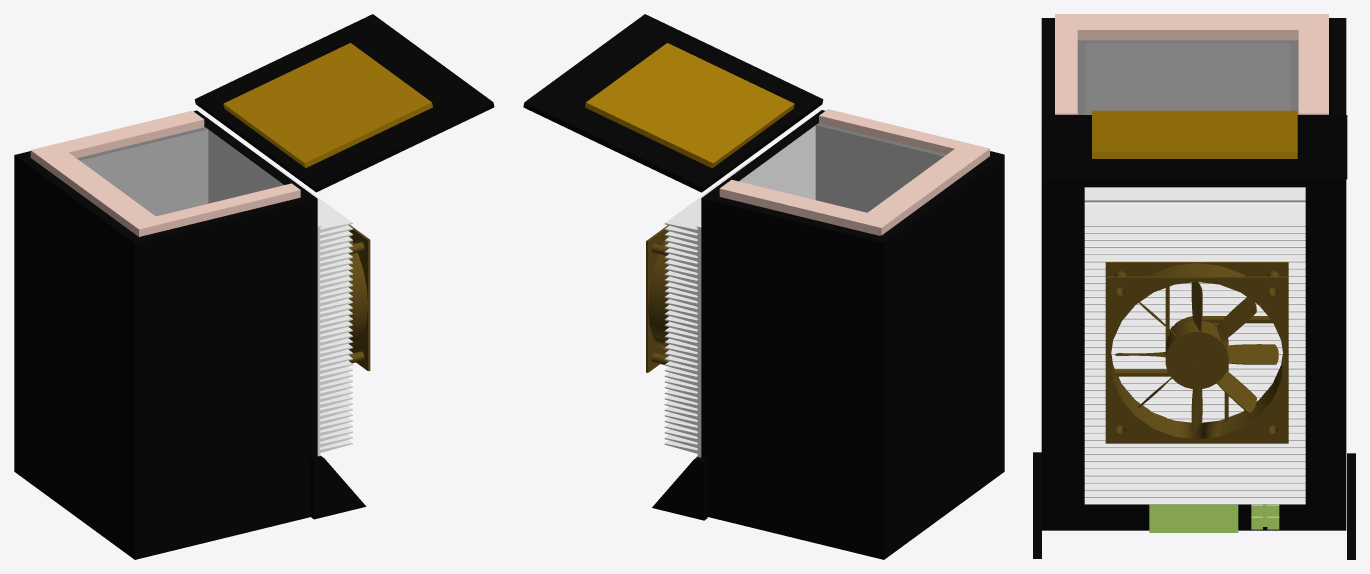
File: CaixaFinalizada_Open.glb
3 views of the same model, side by side, from view 1: azimuth 30°, elevation 25°; view 2: azimuth 150°, elevation 25°; view 3: azimuth 270°, elevation 25° (orthographic). The views are drawn at different scales.
Parts seen in each view (by area): view 1: CorpoCaixa, Tampa_solo, ParedeInterna, Revestimento, CoolerQuente, Ventilador.001, SuporteLateral; view 2: CorpoCaixa, Tampa_solo, ParedeInterna, Revestimento, CoolerQuente, Ventilador.001, SuporteLateral.001; view 3: CoolerQuente, CorpoCaixa, Ventilador.001, Tampa_solo, ParedeInterna, Revestimento, Eletronica, SuporteLateral, SuporteLateral.001.
Part boxes in pixels (x1=…): CorpoCaixa: x1=14, y1=110, x2=317, y2=559; Tampa_solo: x1=194, y1=14, x2=494, y2=192; ParedeInterna: x1=77, y1=127, x2=283, y2=216; Revestimento: x1=30, y1=110, x2=300, y2=236; CoolerQuente: x1=264, y1=159, x2=352, y2=456; Ventilador.001: x1=348, y1=225, x2=370, y2=371; SuporteLateral: x1=310, y1=456, x2=365, y2=519; CorpoCaixa: x1=701, y1=110, x2=1004, y2=559; Tampa_solo: x1=523, y1=14, x2=823, y2=192; ParedeInterna: x1=739, y1=123, x2=946, y2=212; Revestimento: x1=719, y1=109, x2=989, y2=235; CoolerQuente: x1=664, y1=159, x2=753, y2=457; Ventilador.001: x1=646, y1=225, x2=668, y2=372; SuporteLateral.001: x1=652, y1=457, x2=707, y2=520; CoolerQuente: x1=1084, y1=187, x2=1305, y2=504; CorpoCaixa: x1=1041, y1=18, x2=1346, y2=530; Ventilador.001: x1=1105, y1=262, x2=1288, y2=443; Tampa_solo: x1=1042, y1=110, x2=1347, y2=179; ParedeInterna: x1=1077, y1=40, x2=1298, y2=114; Revestimento: x1=1055, y1=14, x2=1328, y2=114; Eletronica: x1=1149, y1=504, x2=1279, y2=532; SuporteLateral: x1=1033, y1=452, x2=1041, y2=558; SuporteLateral.001: x1=1347, y1=453, x2=1355, y2=559.
Size of what is drawn, in the model's own units: 1.72 by 1.7 by 1.06.
